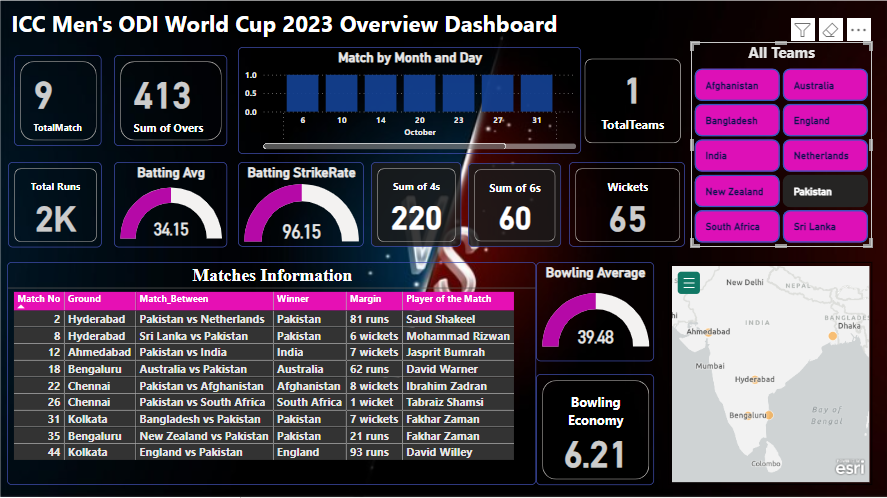

The page's visual inventory and layout, read from the dashboard file:
{"tool":"powerbi","page":{"name":"ICC World Cup 2023 Overall Tournament Overview","canvas":[1280,720],"ordinal":0},"visuals":[{"type":"cardVisual","fields":{"Data":["Sum(bowling_summary.Overs)"]},"box":[165.9,84.1,162.5,130.7],"z":0},{"type":"cardVisual","fields":{"Data":["Key_Measures.wickets"]},"box":[820.8,237.6,167,122.4],"z":1000},{"type":"cardVisual","fields":{"Data":["Key_Measures.Total Runs"]},"box":[12.5,237.5,135.2,122.7],"z":2000},{"type":"lineClusteredColumnComboChart","title":"Match by Month and Day","fields":{"Category":["matches_schedule_results.Date.Variation.Date Hierarchy.Month","matches_schedule_results.Date.Variation.Date Hierarchy.Day"],"Y":["CountNonNull(matches_schedule_results.Match No)"]},"box":[344.2,72,493.9,154.1],"z":3000},{"type":"tableEx","title":"     Matches Information","fields":{"Values":["matches_schedule_results.Match No","matches_schedule_results.Ground","batting_summary_out.Match_Between","matches_schedule_results.Winner","matches_schedule_results.Margin","matches_schedule_results.Player of the Match"]},"box":[11.5,381.6,761.8,321.1],"z":4000},{"type":"advancedSlicerVisual","title":"All Teams","fields":{"Values":["world_cup_players_info.team_name"]},"box":[996.5,64.8,260.6,295.2],"z":5000},{"type":"cardVisual","title":"4s","fields":{"Data":["Sum(batting_summary_out.4s)"]},"box":[535.7,237.6,129.6,122.4],"z":6000},{"type":"cardVisual","fields":{"Data":["Sum(batting_summary_out.6s)"]},"box":[675.4,239,133.9,121],"z":7000},{"type":"cardVisual","fields":{"Data":["Key_Measures.TotalTeams"]},"box":[838.1,83.5,149.8,132.5],"z":8000},{"type":"cardVisual","fields":{"Data":["Key_Measures.TotalMatchesCount"]},"box":[21.6,84.1,126.1,130.7],"z":9000},{"type":"cardVisual","fields":{"Data":["Key_Measures.Economy"]},"box":[773.1,543.3,170.1,159.7],"z":10000},{"type":"gauge","fields":{"Y":["Key_Measures.Bowling Average"]},"box":[773.3,381.6,169.9,142.6],"z":11000},{"type":"gauge","fields":{"Y":["Key_Measures.Batting Avg"]},"box":[165.9,237.5,162.5,122.7],"z":12000},{"type":"gauge","fields":{"Y":["Key_Measures.Strike rate"]},"box":[344.2,237.6,181.4,122.4],"z":13000},{"type":"textbox","box":[12.5,10.2,808,54.5],"z":14000},{"type":"esriVisual","fields":{"Location":["matches_schedule_results.Ground"]},"box":[963.4,381.6,293.8,321.1],"z":15000}]}

Visuals, with their boxes in screenshot pixels (x1, y1, x2, y2), scaled from the page's 1280x720 canvas onto the 887x498 screenshot:
cardVisual - Sum(bowling_summary.Overs): BBox(115, 58, 228, 149)
cardVisual - Key_Measures.wickets: BBox(569, 164, 685, 249)
cardVisual - Key_Measures.Total Runs: BBox(9, 164, 102, 249)
"Match by Month and Day" lineClusteredColumnComboChart: BBox(239, 50, 581, 156)
"     Matches Information" tableEx: BBox(8, 264, 536, 486)
"All Teams" advancedSlicerVisual: BBox(691, 45, 871, 249)
"4s" cardVisual: BBox(371, 164, 461, 249)
cardVisual - Sum(batting_summary_out.6s): BBox(468, 165, 561, 249)
cardVisual - Key_Measures.TotalTeams: BBox(581, 58, 685, 149)
cardVisual - Key_Measures.TotalMatchesCount: BBox(15, 58, 102, 149)
cardVisual - Key_Measures.Economy: BBox(536, 376, 654, 486)
gauge - Key_Measures.Bowling Average: BBox(536, 264, 654, 363)
gauge - Key_Measures.Batting Avg: BBox(115, 164, 228, 249)
gauge - Key_Measures.Strike rate: BBox(239, 164, 364, 249)
textbox: BBox(9, 7, 569, 45)
esriVisual - matches_schedule_results.Ground: BBox(668, 264, 871, 486)
